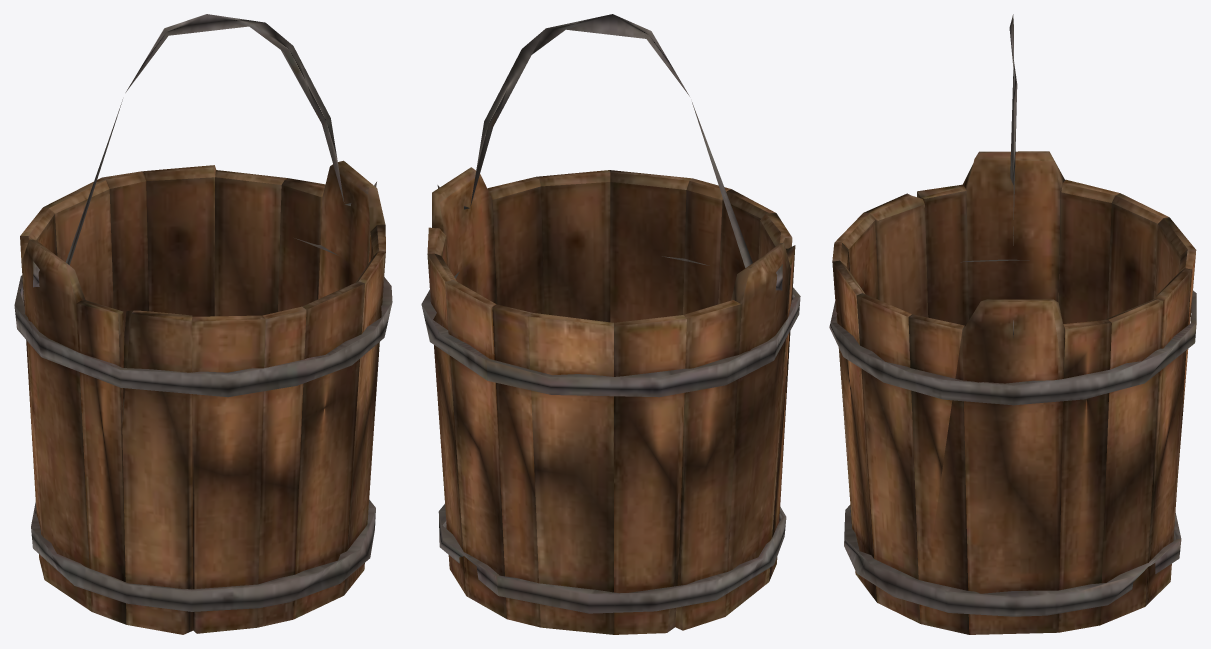
Rendered from p_bucket.glb.
3 renders of one model, left to right at view 1: azimuth 30°, elevation 25°; view 2: azimuth 150°, elevation 25°; view 3: azimuth 270°, elevation 25°, orthographic.
Visible parts, largest first — view 1: wooden_bucket_01, wooden_bucket_01_handle; view 2: wooden_bucket_01, wooden_bucket_01_handle; view 3: wooden_bucket_01, wooden_bucket_01_handle.
Part boxes in pixels (<box>): wooden_bucket_01: <box>14,160,392,634</box>; wooden_bucket_01_handle: <box>33,14,376,287</box>; wooden_bucket_01: <box>421,167,800,634</box>; wooden_bucket_01_handle: <box>437,14,782,290</box>; wooden_bucket_01: <box>829,151,1196,634</box>; wooden_bucket_01_handle: <box>1009,14,1017,337</box>.
Bounding box in the file's own units: 0.3577 × 0.5473 × 0.3354.
Materials: 1 (1 with a texture image).
